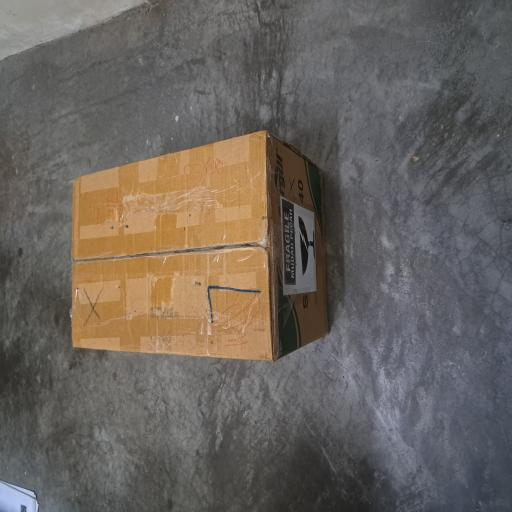cardboard: (112, 93, 288, 442)
